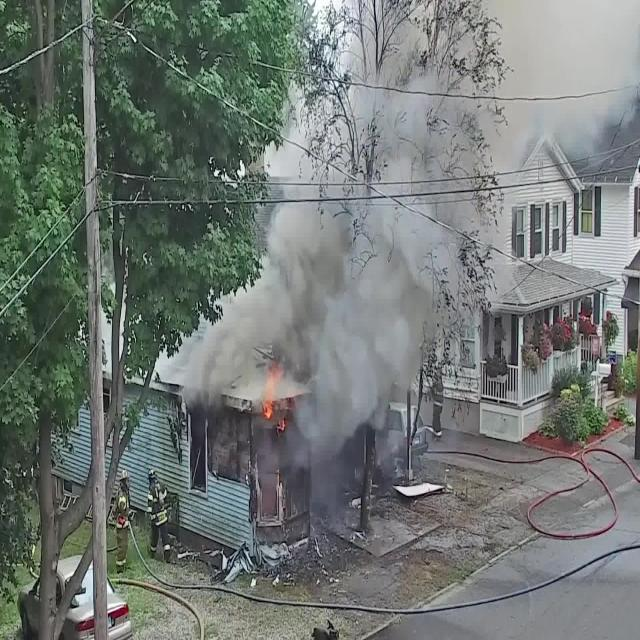Fire: (256, 361, 295, 435)
Smoke: (198, 0, 576, 468)
